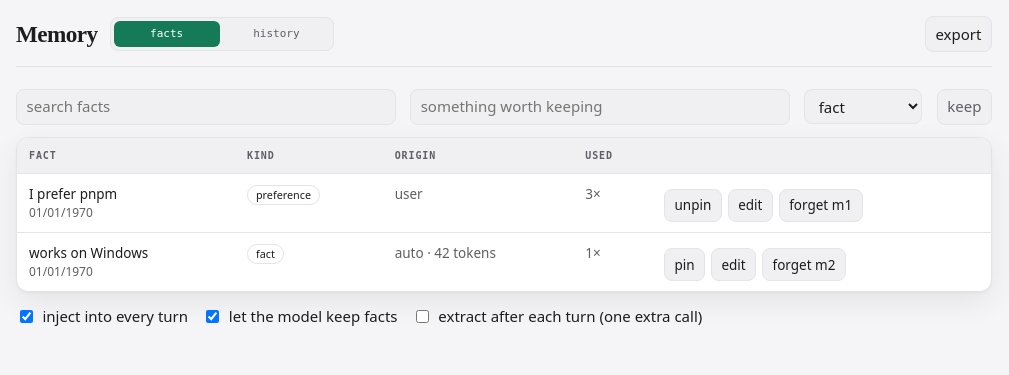
Test case: MemoryScreen › says so when the export fails instead of dropping the rejection
Expected: the text "I prefer pnpm" is shown, [29, 185, 117, 203]
Click the button "export" at (958, 34), box [925, 16, 992, 52]
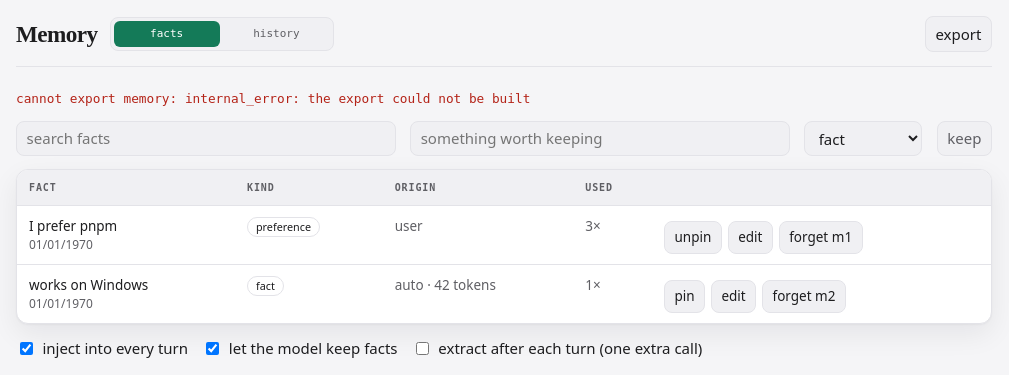
Expected: the message shows "cannot export memory", [16, 91, 185, 106]
